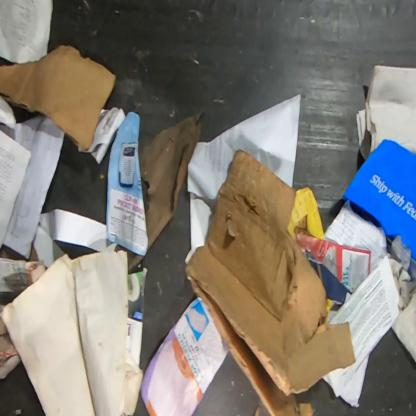cardboard: (185, 150, 356, 415), (0, 45, 115, 152), (342, 138, 416, 264)
